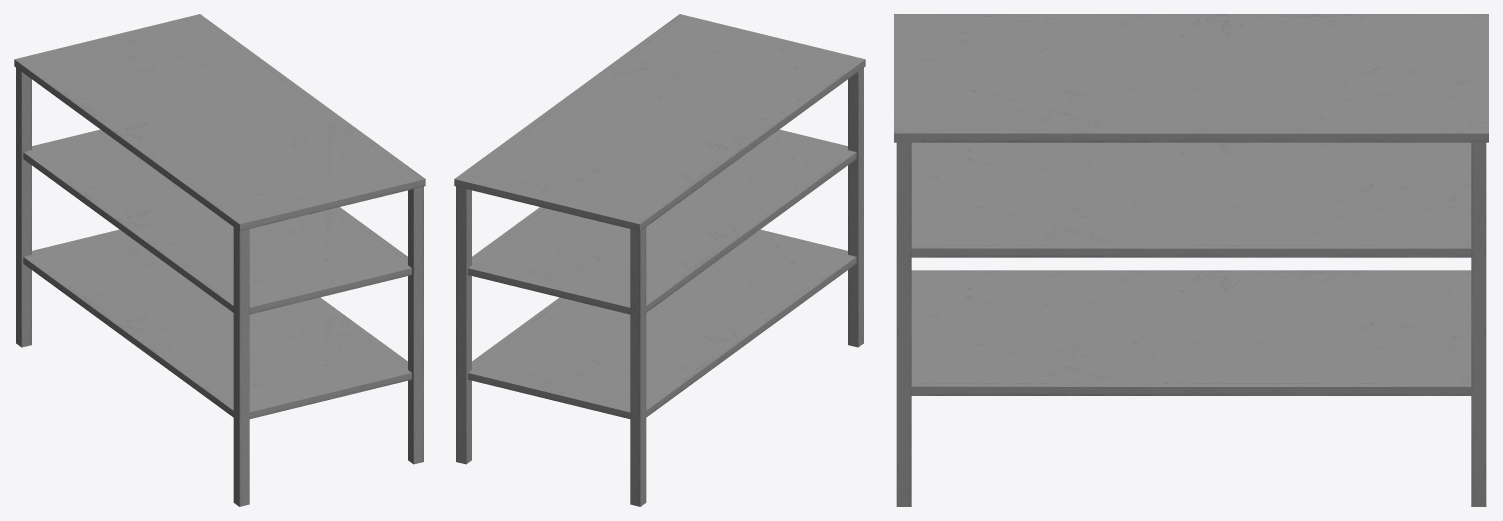
Rendered from HH_Surgical_Table.fbx.
3 renders of one model, left to right at view 1: azimuth 30°, elevation 25°; view 2: azimuth 150°, elevation 25°; view 3: azimuth 270°, elevation 25°, orthographic. The views are drawn at different scales.
Visible parts, largest first — view 1: HH_Surgical_Table; view 2: HH_Surgical_Table; view 3: HH_Surgical_Table.
Part boxes in pixels (x1,y1,x2,y2): HH_Surgical_Table: [14, 14, 425, 506]; HH_Surgical_Table: [454, 14, 865, 506]; HH_Surgical_Table: [894, 14, 1488, 506].
Bounding box in the file's own units: 54.25 × 79.09 × 114.
